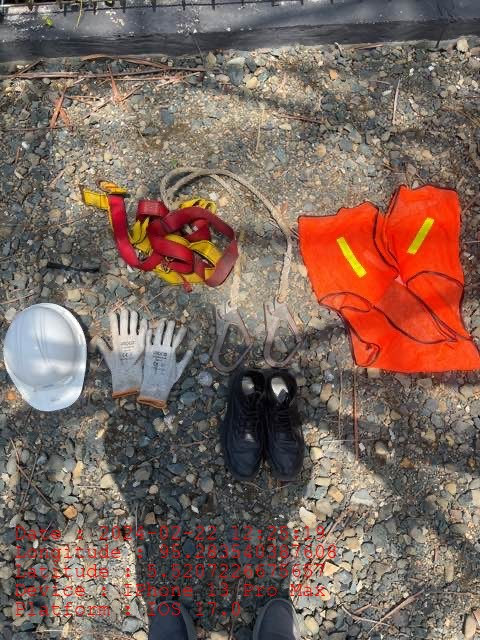HELM: (3, 302, 88, 410)
ROMPI: (303, 186, 480, 372)
SARUNG TANGAN: (93, 308, 191, 408)
SEPATU: (226, 365, 306, 486)
